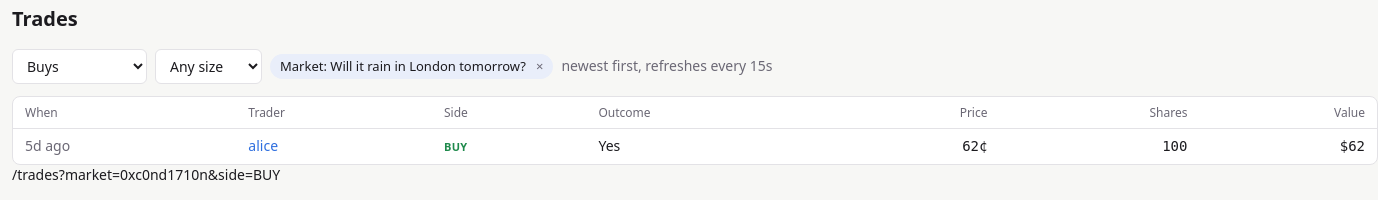
Trades page › drops the market filter when its chip is cleared
Expected: the text "Market: Will it rain in London tomorrow?" is shown, [280,57,526,76]
Click the button named "Clear filter".
click(540, 66)  # box [530,60,549,73]
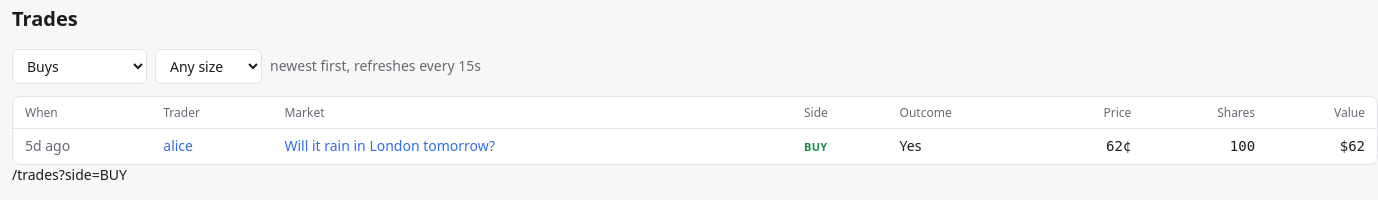
Expected: the column heading "Market" is shown, [272,97,792,129]
Expected: the text with test id "location" reads "/trades?side=BUY", [12,165,127,184]
Expected: the text "Market:" is gone
